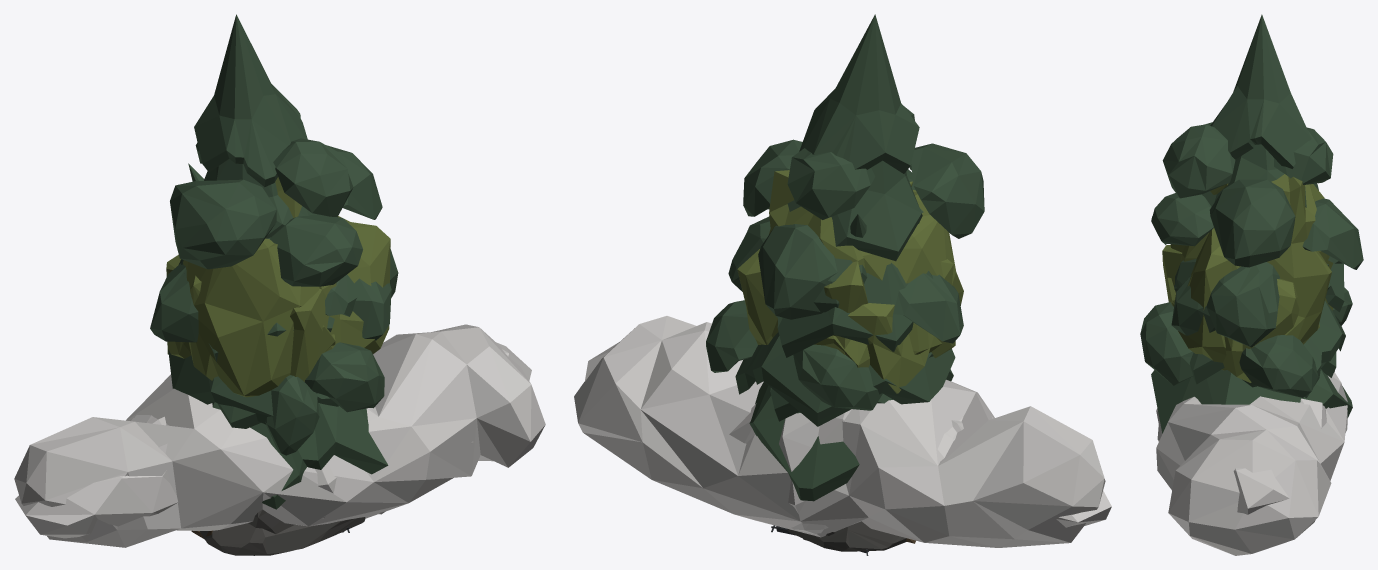
The model's file is kit.glb.
3 views of the same model, side by side, from view 1: azimuth 30°, elevation 25°; view 2: azimuth 150°, elevation 25°; view 3: azimuth 270°, elevation 25° (orthographic). The views are drawn at different scales.
Parts seen in each view (by area): view 1: cloud_1, birch_2, pine_3, tree_3, birch_1, cloud_2, tree_2, rock_1, birch_3, tree_1, pine_1; view 2: cloud_1, pine_3, birch_2, birch_1, tree_3, tree_2, cloud_3, rock_1, cloud_2, tree_1; view 3: cloud_1, birch_2, pine_3, tree_2, birch_1, cloud_2, tree_3, tree_1, pine_1, birch_3.
Boxes of the visible parts, x1,y1,x2,y2 form: cloud_1: (14,324,545,547); birch_2: (170,138,398,455); pine_3: (167,14,388,509); tree_3: (166,238,319,397); birch_1: (150,214,391,342); cloud_2: (15,342,531,538); tree_2: (290,216,390,381); rock_1: (200,517,365,555); birch_3: (325,274,357,316); tree_1: (182,177,335,360); pine_1: (192,206,338,428); cloud_1: (574,316,1105,547); pine_3: (735,14,955,501); birch_2: (728,105,984,319); birch_1: (706,169,963,410); tree_3: (848,190,963,393); tree_2: (737,170,912,354); cloud_3: (779,409,963,534); rock_1: (787,521,906,551); cloud_2: (584,342,1111,527); tree_1: (767,259,953,367); cloud_1: (1156,371,1347,555); birch_2: (1140,122,1363,385); pine_3: (1151,14,1352,433); tree_2: (1162,174,1333,370); birch_1: (1151,193,1352,397); cloud_2: (1233,398,1326,514); tree_3: (1170,244,1299,350); tree_1: (1167,183,1333,382); pine_1: (1202,191,1336,387); birch_3: (1175,258,1328,289).
Bounding box in the file's own units: 8.72 × 8.4 × 3.75.
4 materials, 4 textured.
